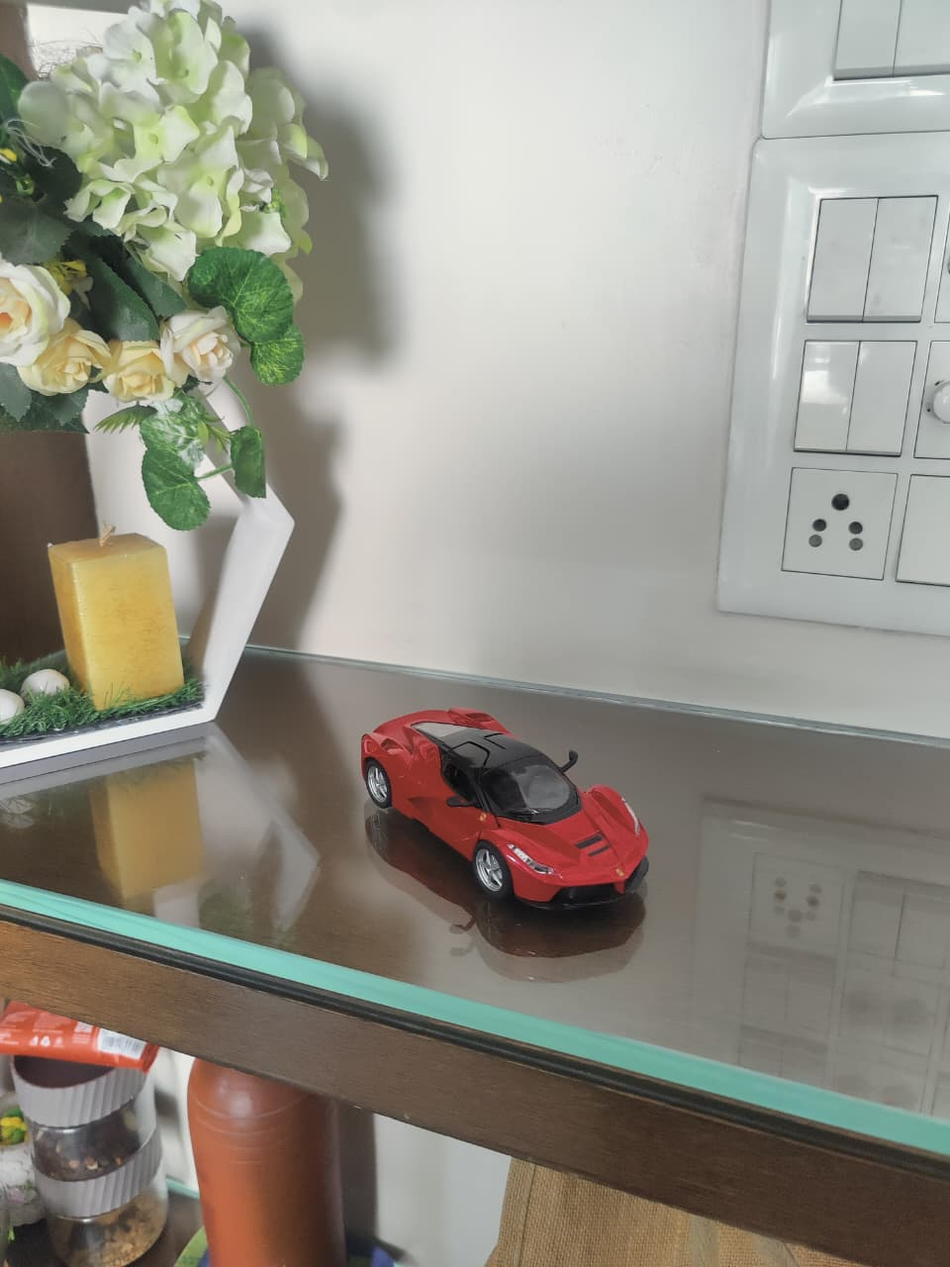car: (360, 707, 651, 915)
